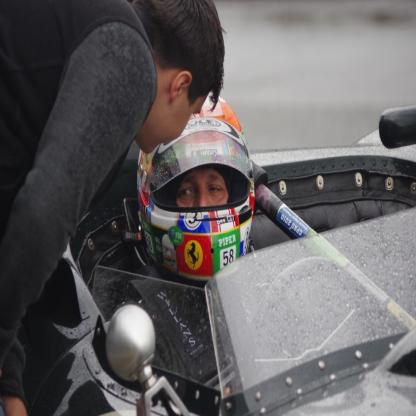Helmet: (136, 88, 255, 288)
